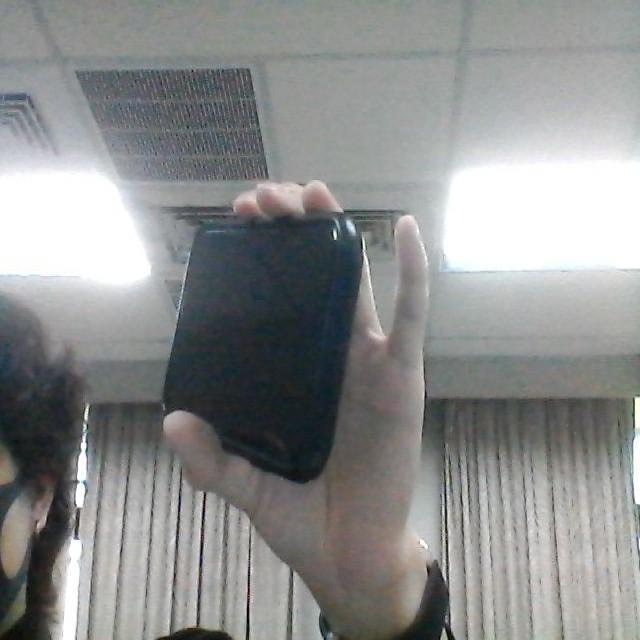Phone: (158, 210, 366, 486)
